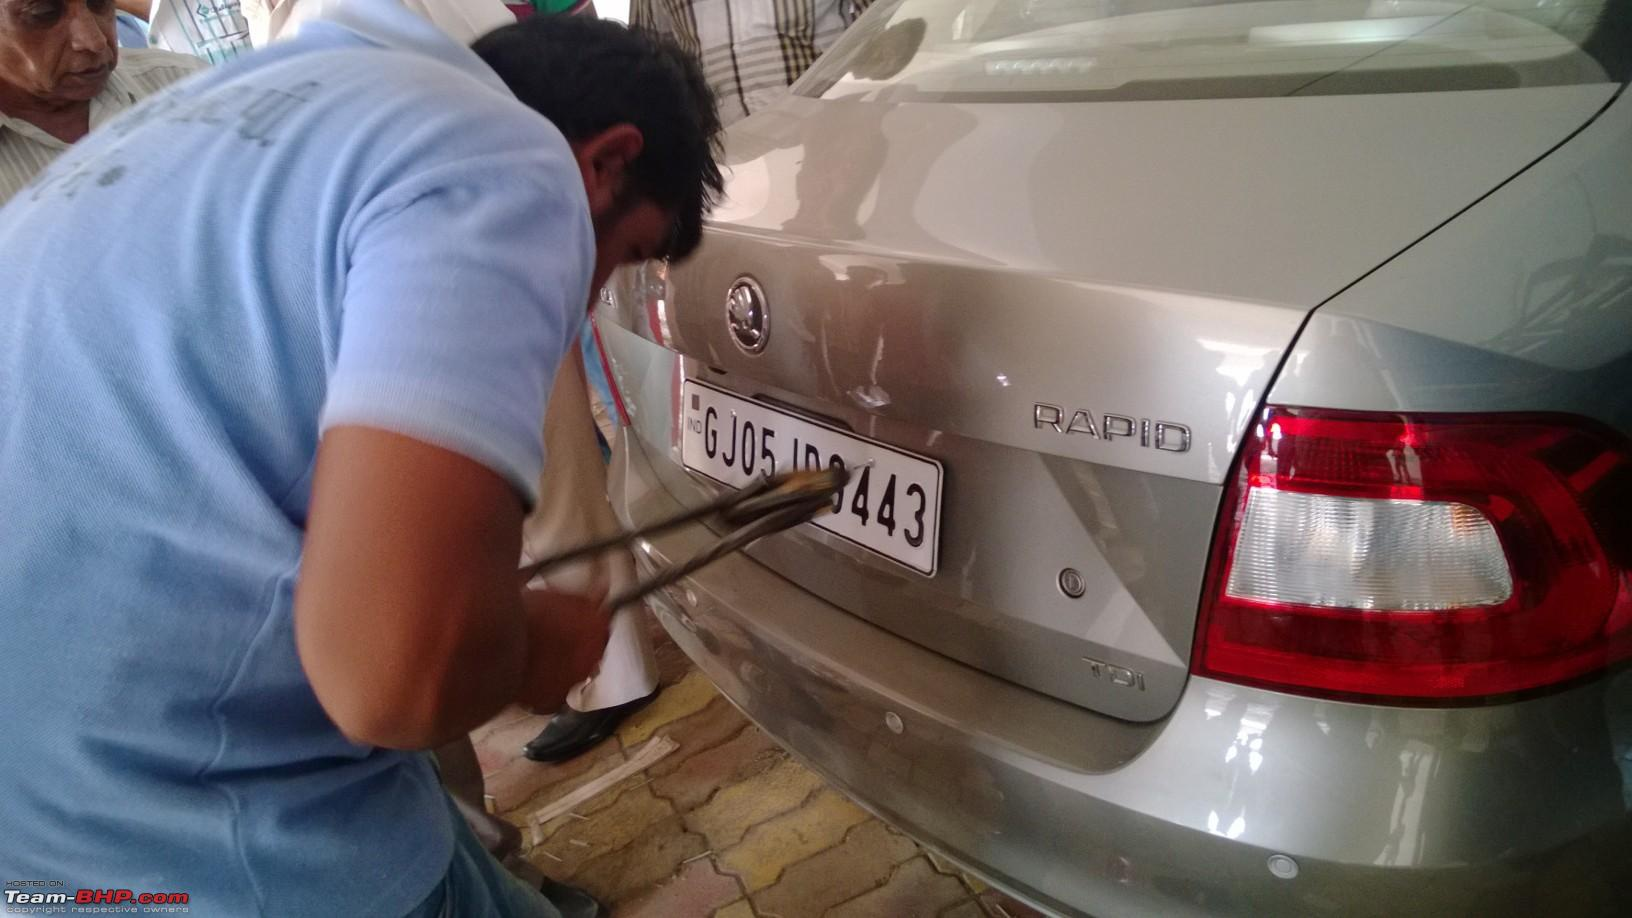plate: (674, 364, 957, 572)
